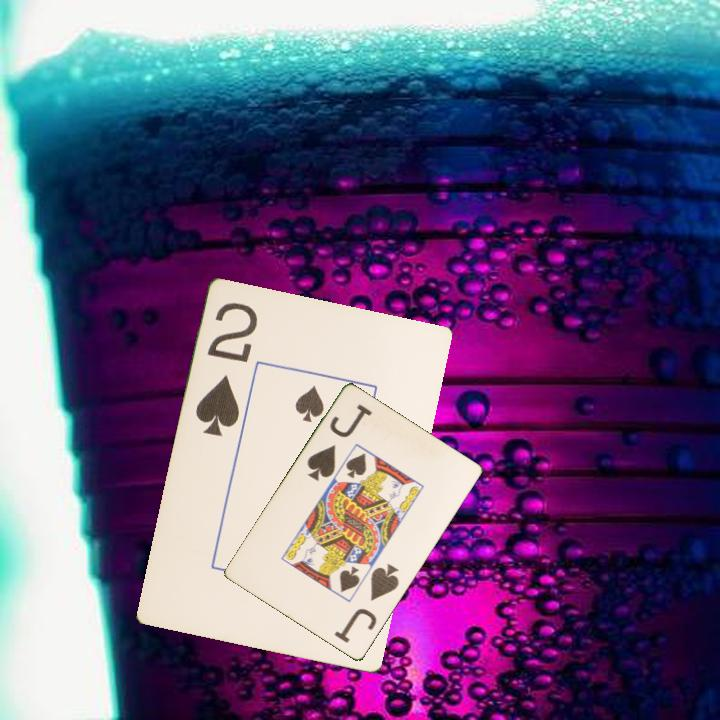2s: (192, 299, 261, 440)
Js: (330, 560, 402, 646), (303, 400, 375, 485)
